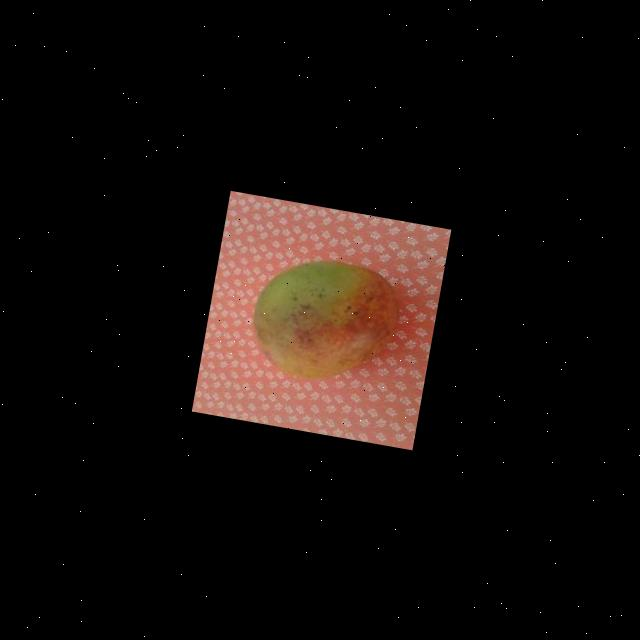Mango: (242, 248, 404, 392)
